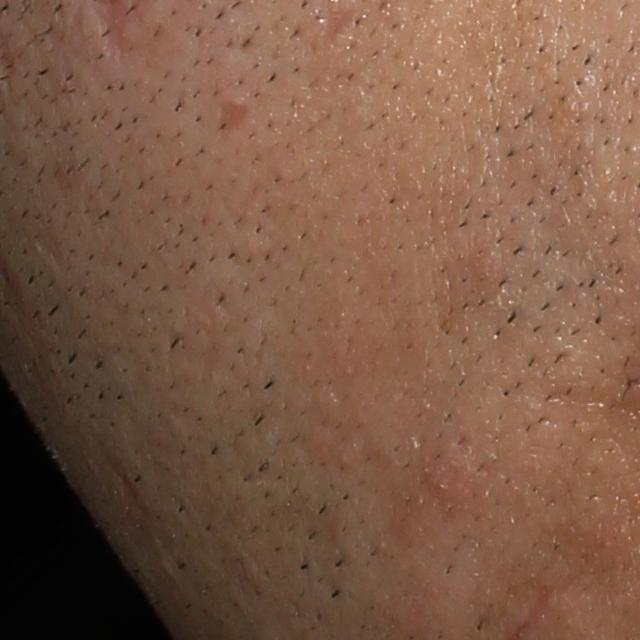atrophic_scar: (321, 2, 362, 50)
papule: (418, 442, 491, 510)
